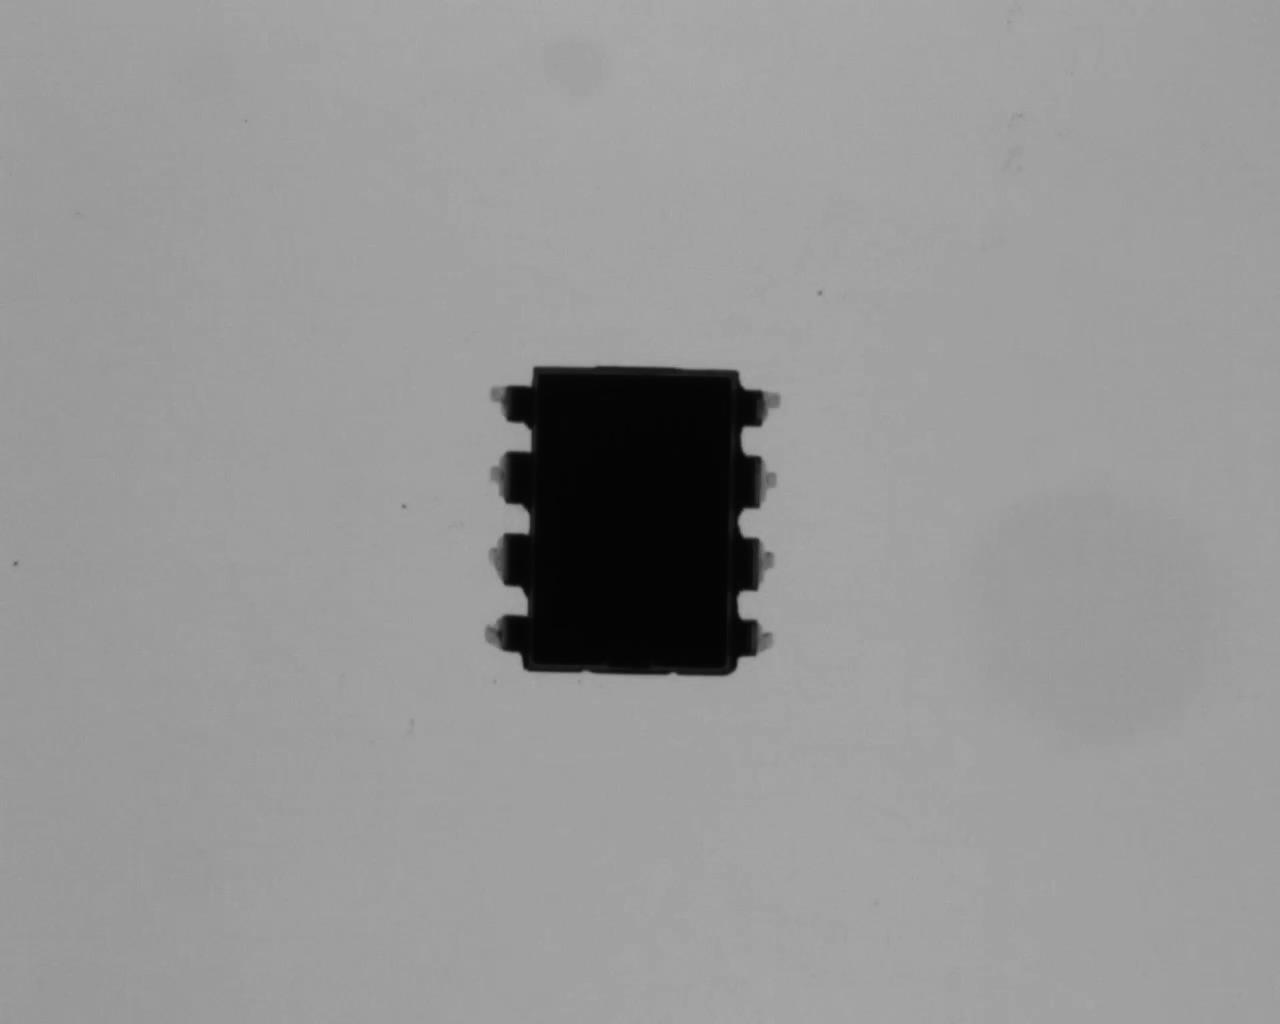Leg: (478, 455, 551, 509), (488, 371, 548, 436), (737, 450, 786, 525), (731, 530, 782, 595), (737, 607, 785, 670), (484, 527, 532, 587), (473, 611, 532, 658), (735, 381, 783, 435)
